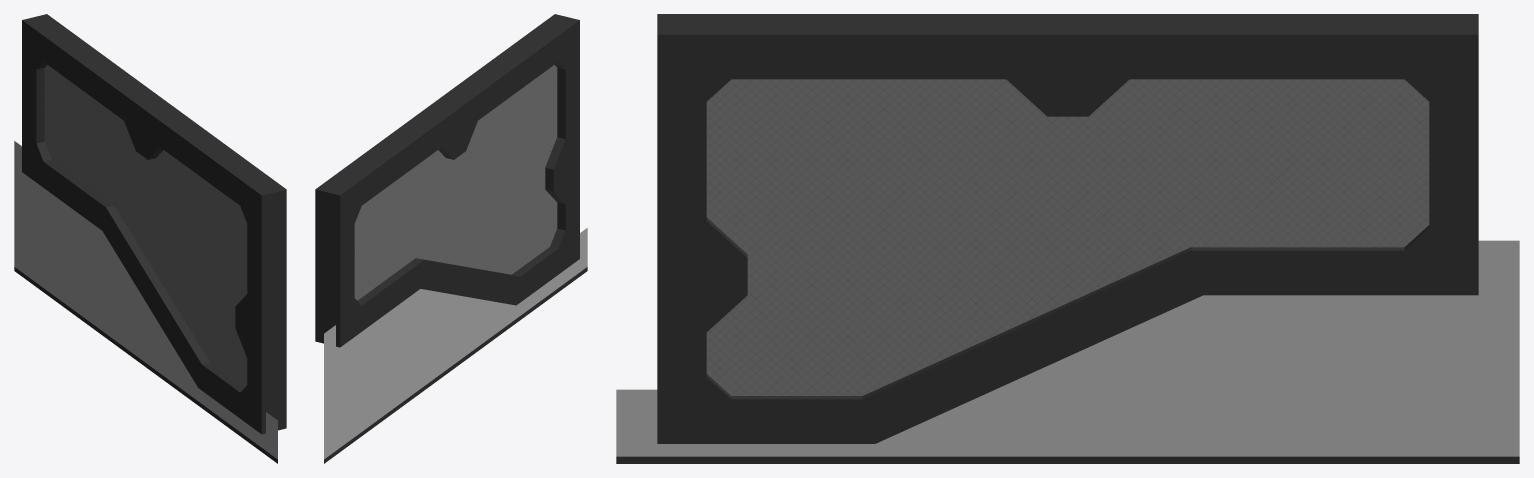
File: BigWindow_Flip.fbx
3 renders of one model, left to right at view 1: azimuth 30°, elevation 25°; view 2: azimuth 150°, elevation 25°; view 3: azimuth 270°, elevation 25°, orthographic. The views are drawn at different scales.
Visible parts, largest first — view 1: BigWindow.001; view 2: BigWindow.001; view 3: BigWindow.001.
Part boxes in pixels (x1,y1,x2,y2): BigWindow.001: [14, 14, 286, 463]; BigWindow.001: [315, 14, 587, 463]; BigWindow.001: [616, 14, 1519, 463].
Bounding box in the file's own units: 60 × 600 × 1100.
